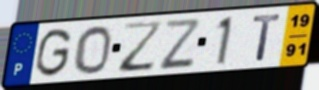1: (214, 15, 235, 67)
G: (33, 26, 74, 79)
O: (73, 24, 114, 76)
T: (251, 12, 284, 63)
Z: (117, 18, 165, 75), (158, 17, 201, 72)
